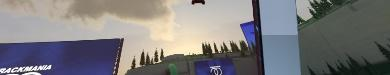Car: (190, 0, 204, 4)
Solid White and black: (0, 37, 124, 74), (193, 57, 237, 74)
obstacles-Borders: (296, 0, 389, 74), (123, 56, 257, 74)
